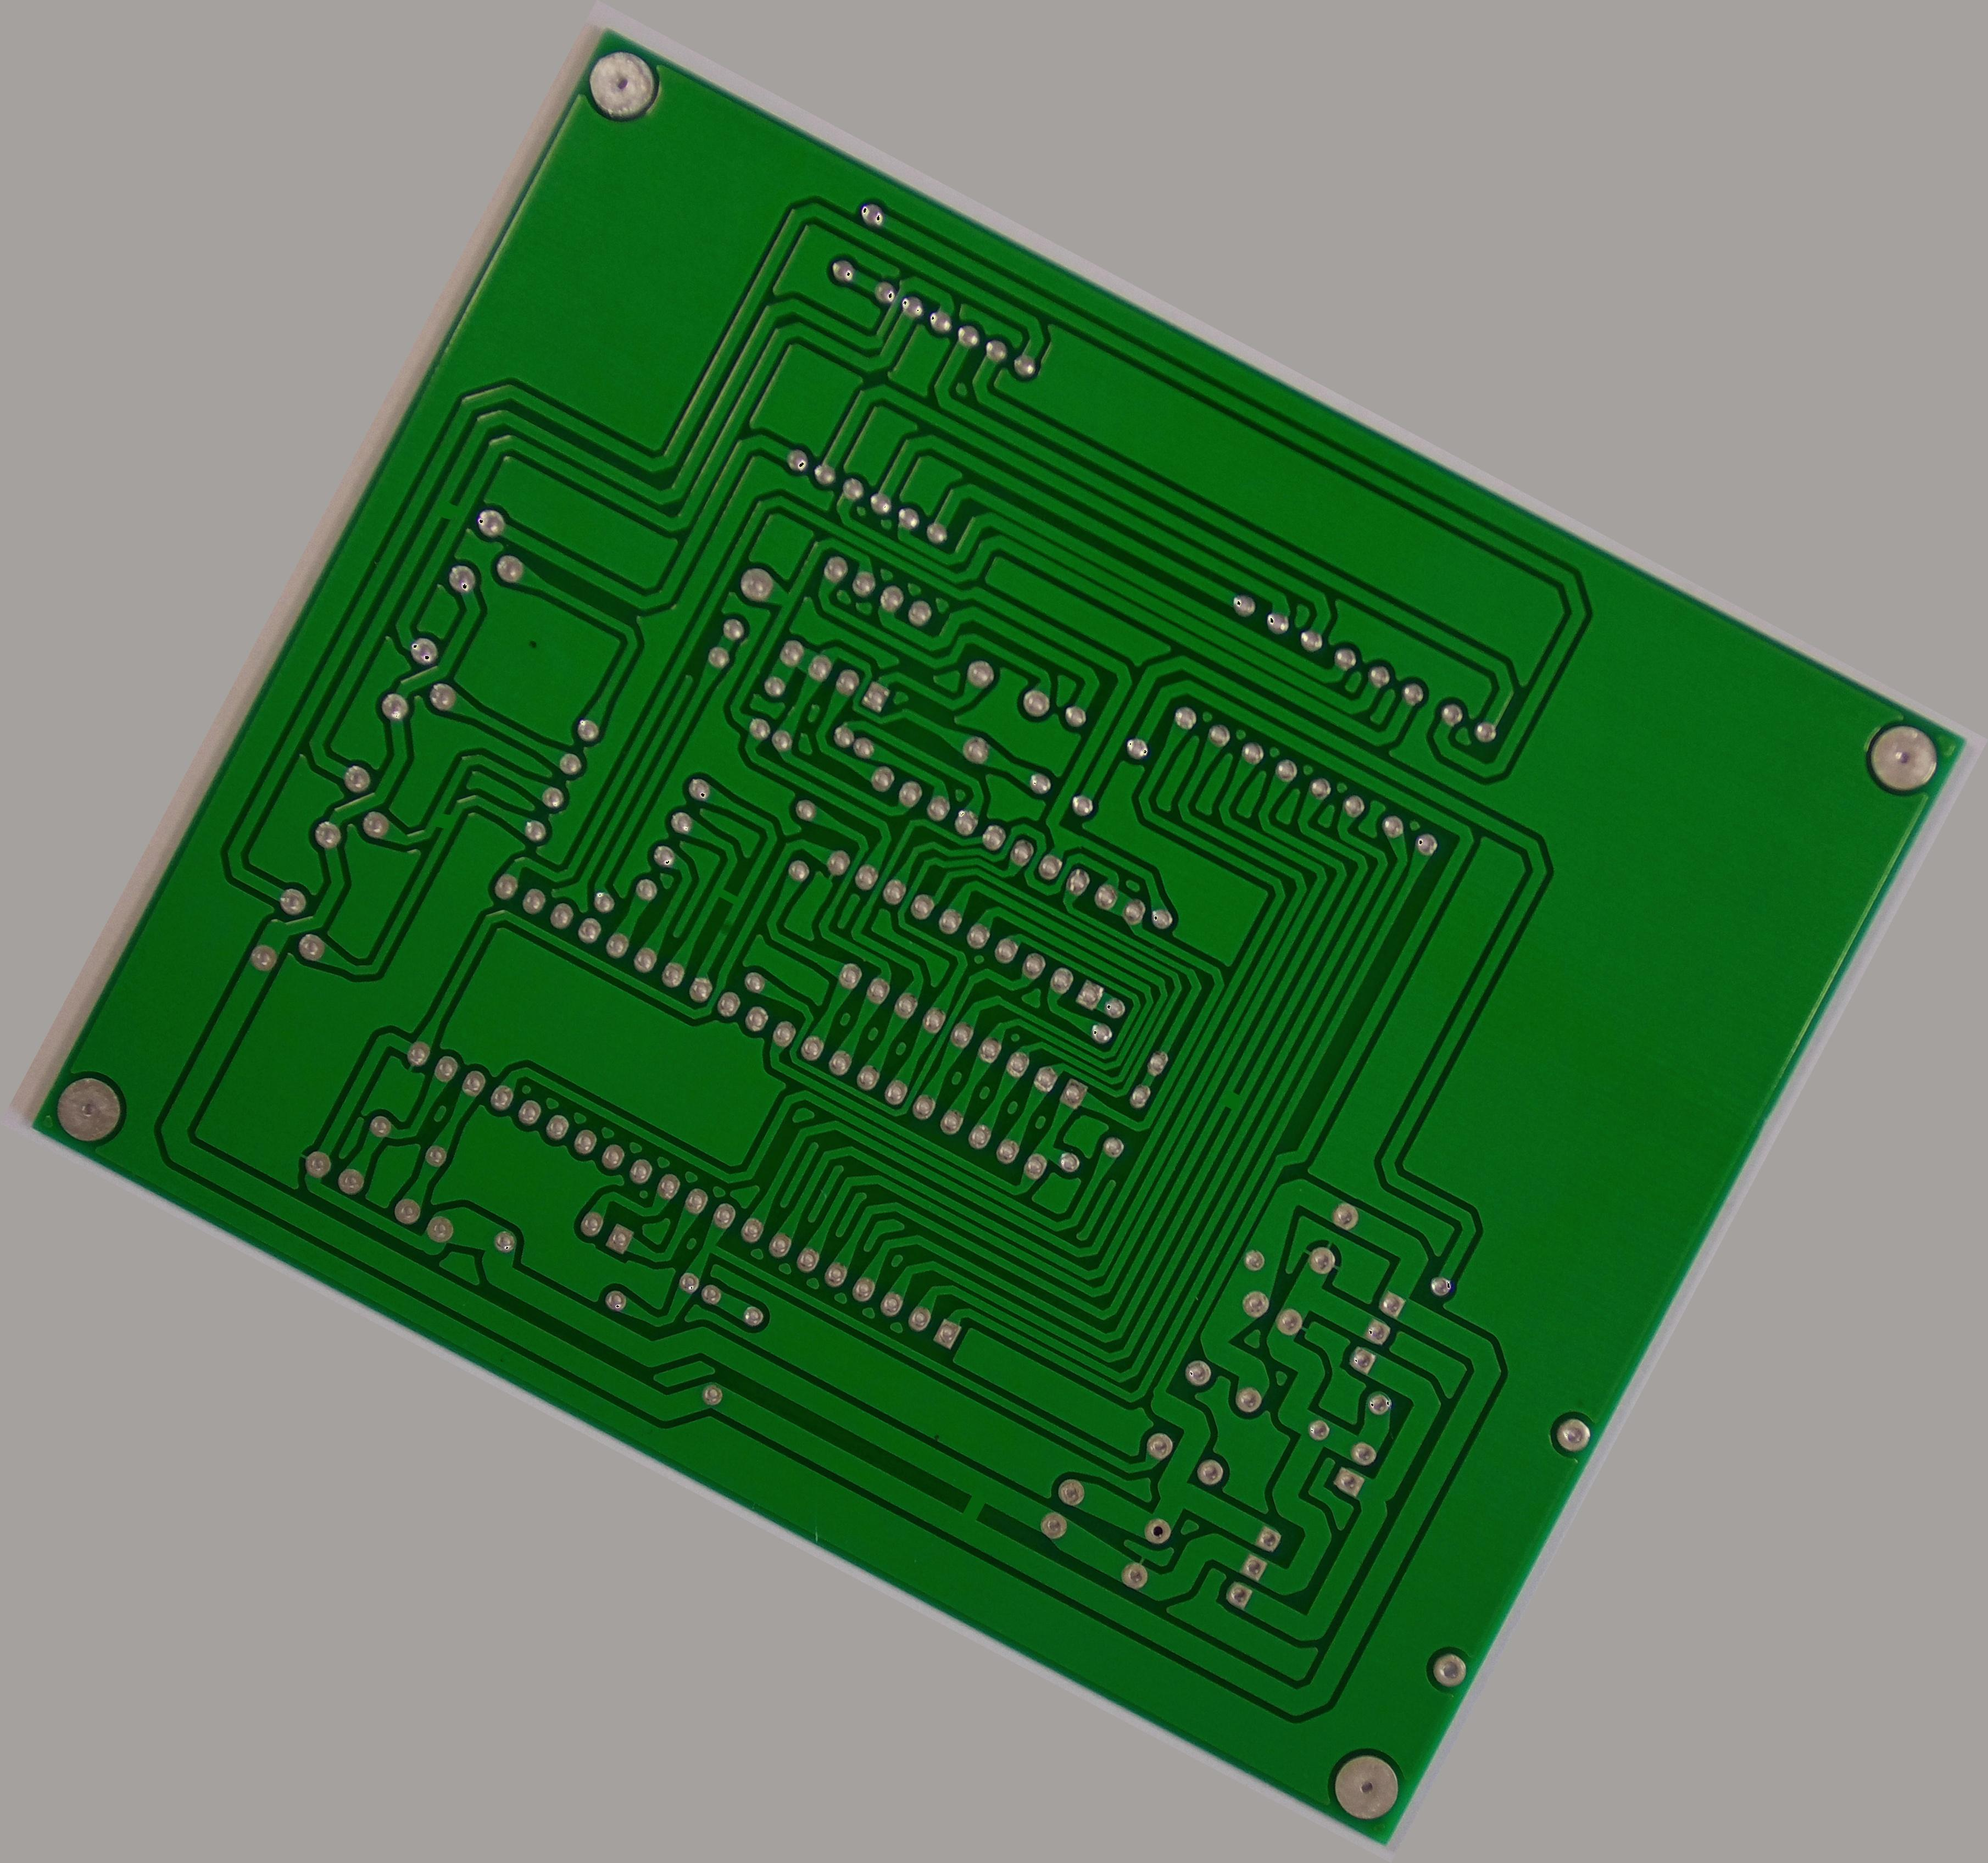short: (931, 1471, 1010, 1543), (420, 480, 480, 541), (702, 874, 754, 923), (422, 797, 467, 844), (1208, 1080, 1251, 1121)
